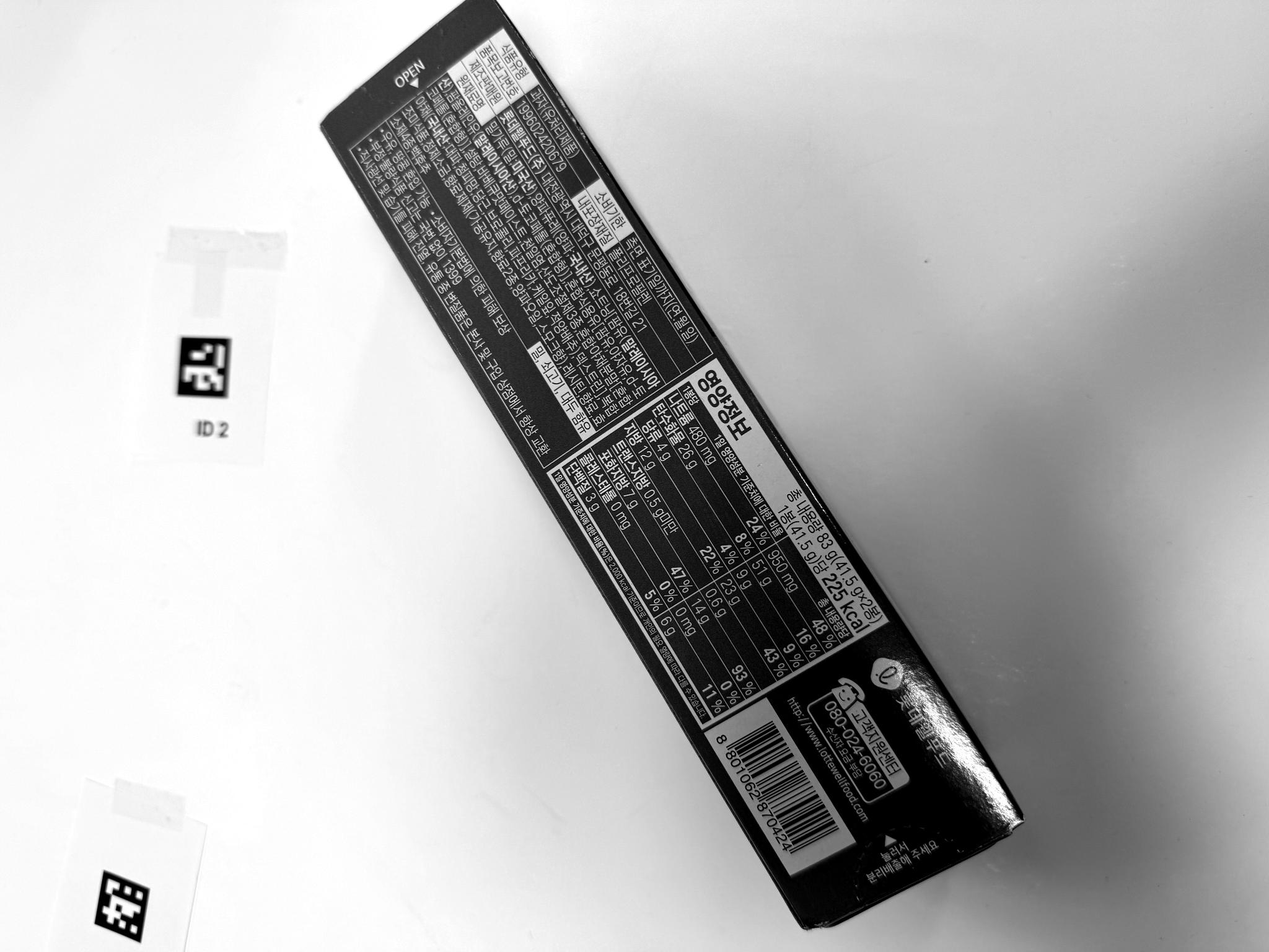cracker_vege: (321, 0, 1023, 927)
